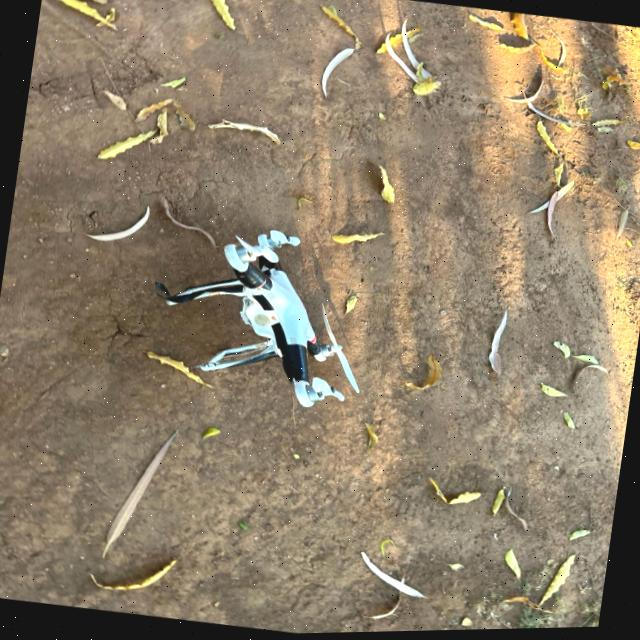drone: (81, 142, 494, 463)
